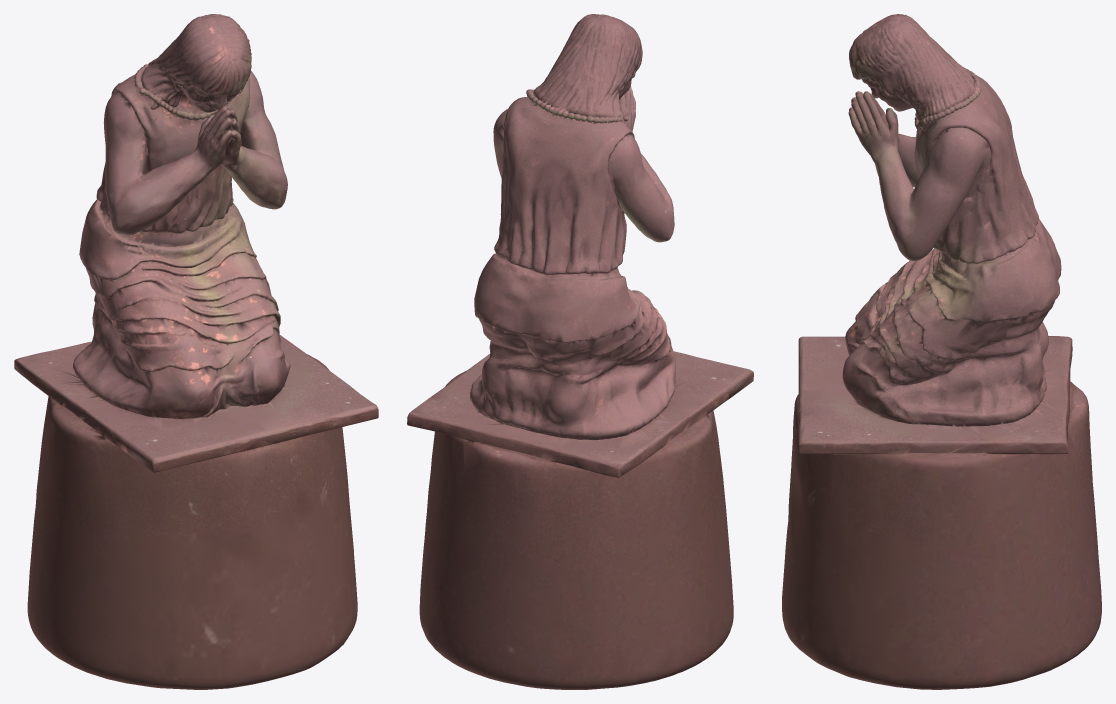
Rendered from los_orantes4.glb.
3 views of the same model, side by side, from view 1: azimuth 30°, elevation 25°; view 2: azimuth 150°, elevation 25°; view 3: azimuth 270°, elevation 25° (orthographic). The views are drawn at different scales.
Size of the model in its own units: 0.9083 by 1.9 by 0.9073.
1 material, 1 textured.
